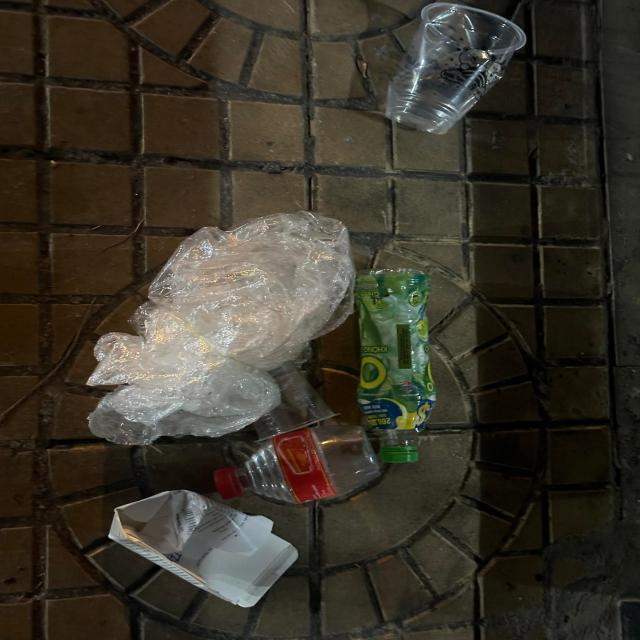bag: (86, 211, 356, 446)
bottle: (356, 269, 436, 463), (215, 426, 382, 504)
cardboard box: (108, 489, 298, 608)
plastic glass: (384, 3, 526, 135), (254, 360, 340, 442)
